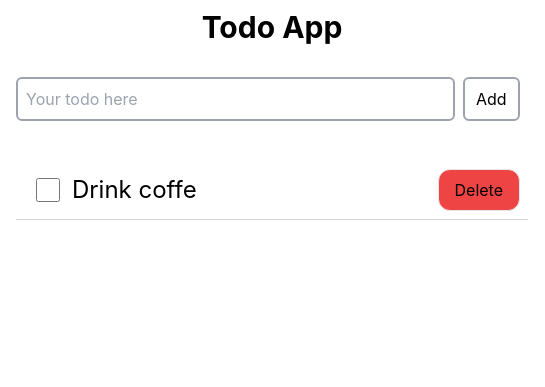
Test: Home › adds multiple todos
Type "Learn React" into the field with placeholder "Your todo here".
click(235, 99); type("Learn React")  # box [16, 77, 455, 121]
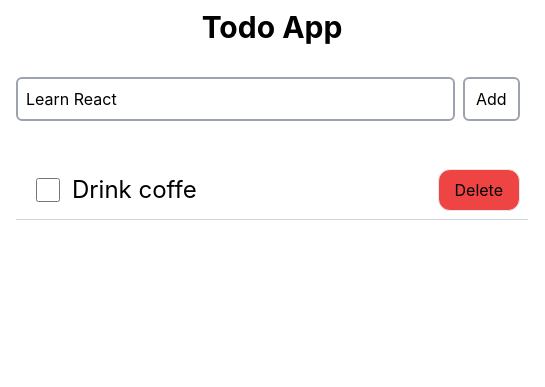
Click the button "Add".
click(491, 99)  # box [463, 77, 520, 121]
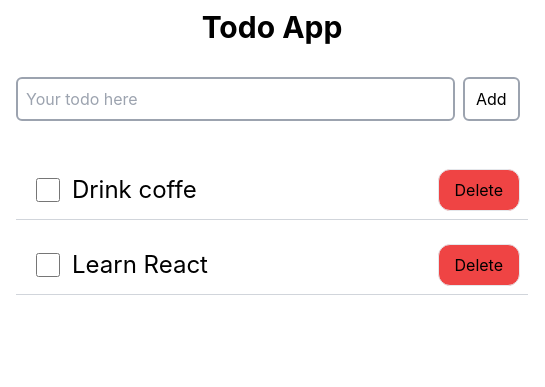
Type "Learn GraphQL" into the field with placeholder "Your todo here".
click(235, 99); type("Learn GraphQL")  # box [16, 77, 455, 121]
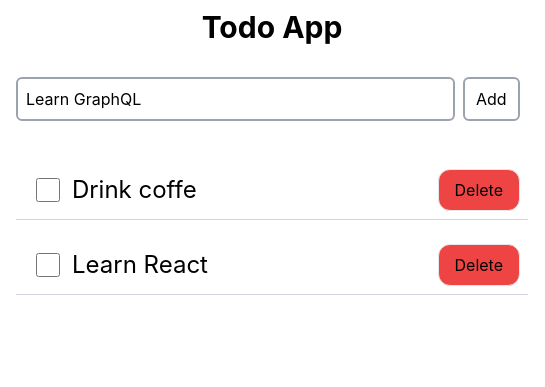
Click the button "Add".
click(491, 99)  # box [463, 77, 520, 121]
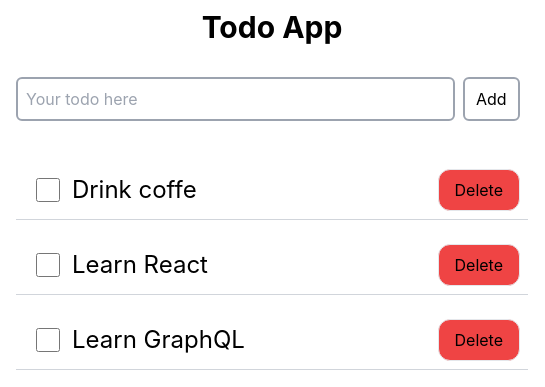
Now the text "Learn React" is shown, box [72, 249, 208, 281]
Now the text "Learn GraphQL" is shown, box [72, 324, 245, 356]
